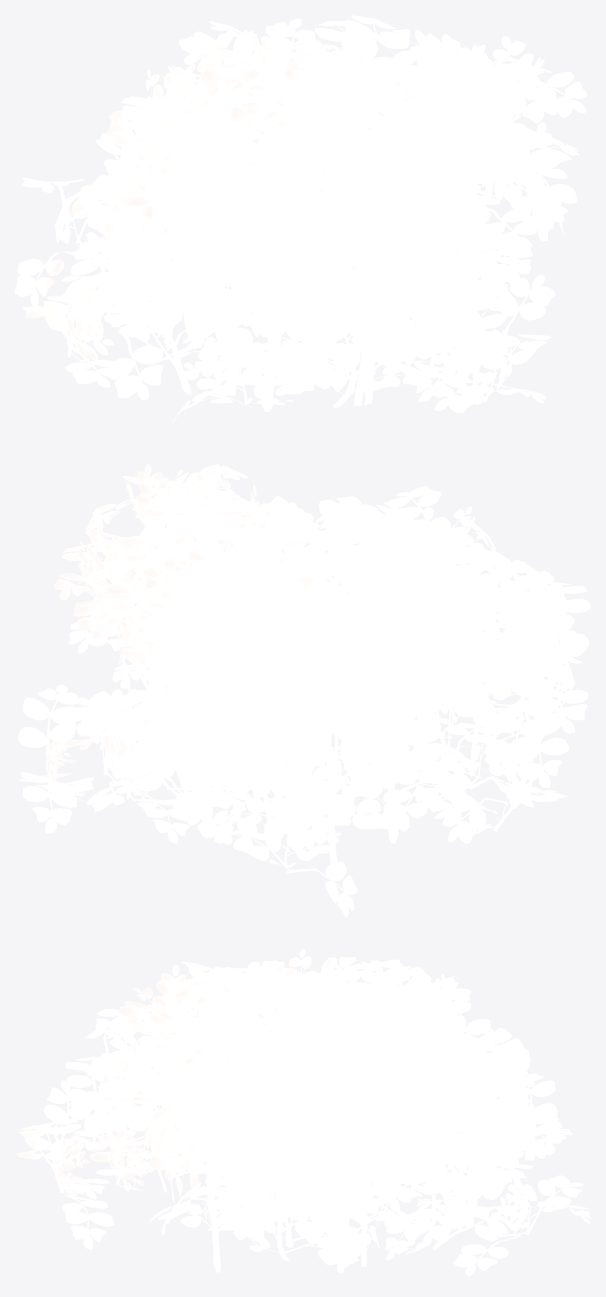
3 renders of one model, top to bottom at view 1: azimuth 30°, elevation 25°; view 2: azimuth 150°, elevation 25°; view 3: azimuth 270°, elevation 25°, orthographic. The views are drawn at different scales.
Visible parts, largest first — view 1: SM_DR_Medium_Bush_Meadows_A_LOD0; view 2: SM_DR_Medium_Bush_Meadows_A_LOD0; view 3: SM_DR_Medium_Bush_Meadows_A_LOD0.
Part boxes in pixels (<box>): SM_DR_Medium_Bush_Meadows_A_LOD0: <box>14,15,587,425</box>; SM_DR_Medium_Bush_Meadows_A_LOD0: <box>18,464,590,917</box>; SM_DR_Medium_Bush_Meadows_A_LOD0: <box>15,949,590,1276</box>.
Bounding box in the file's own units: 1.74 × 1.08 × 2.03.
Materials: 1 (1 with a texture image).
